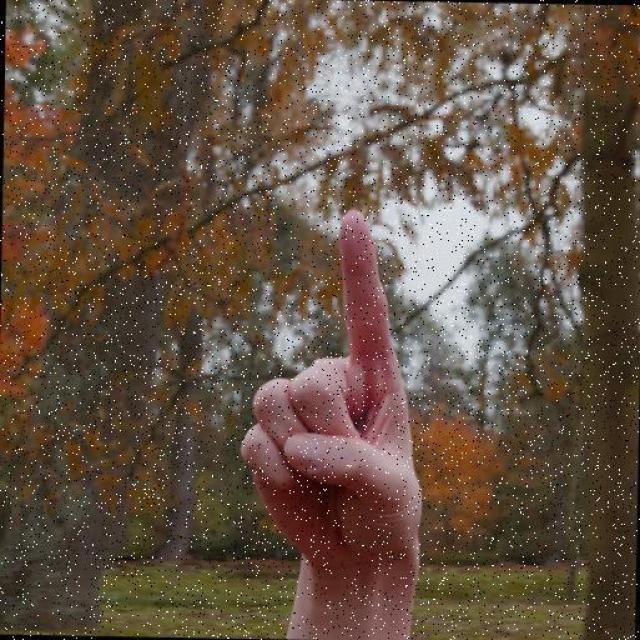Z: (233, 201, 437, 579)
